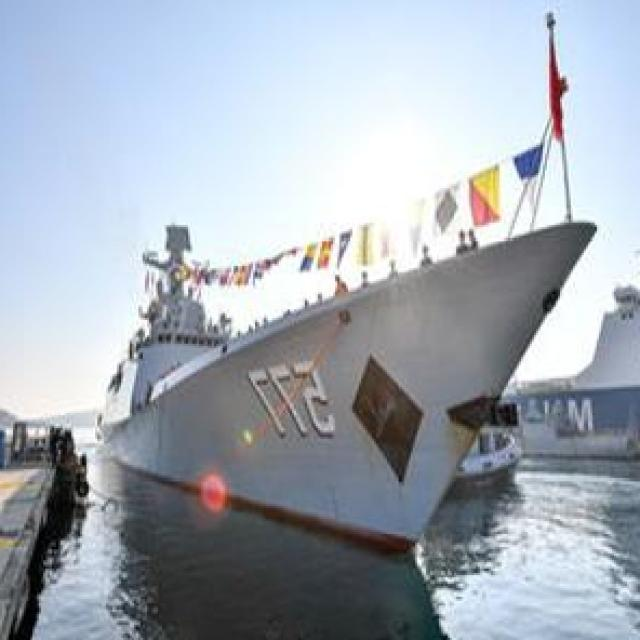navalvessels: (69, 133, 611, 538)
